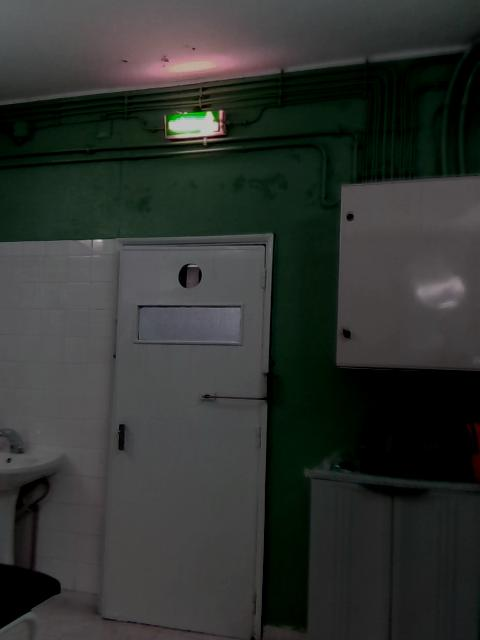closed_door: (99, 246, 267, 638)
